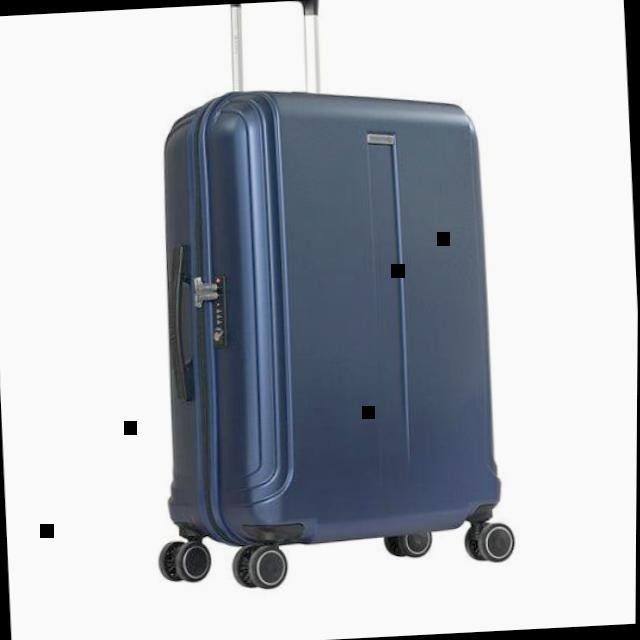luggage: (132, 72, 511, 570)
